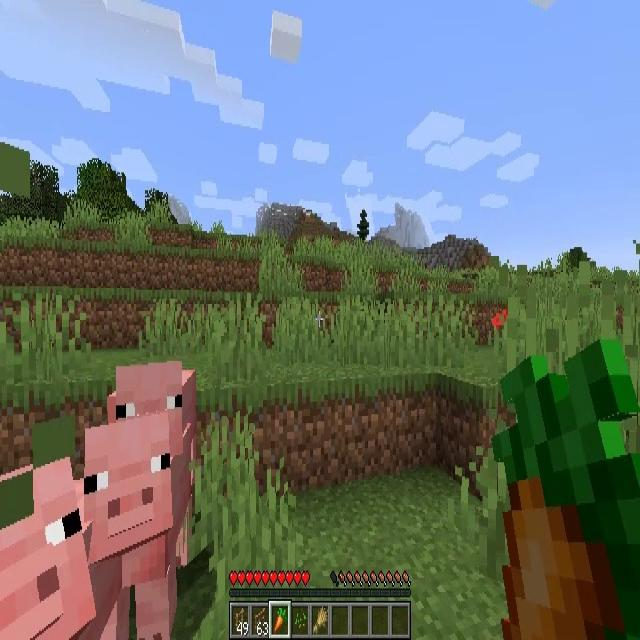pig: (85, 418, 194, 640), (0, 458, 95, 640), (108, 359, 196, 425)
